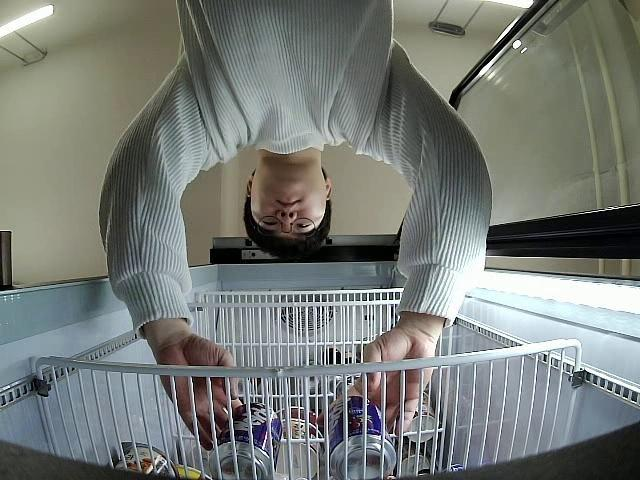14_welchsGrape: (324, 395, 397, 480), (208, 401, 282, 480)
